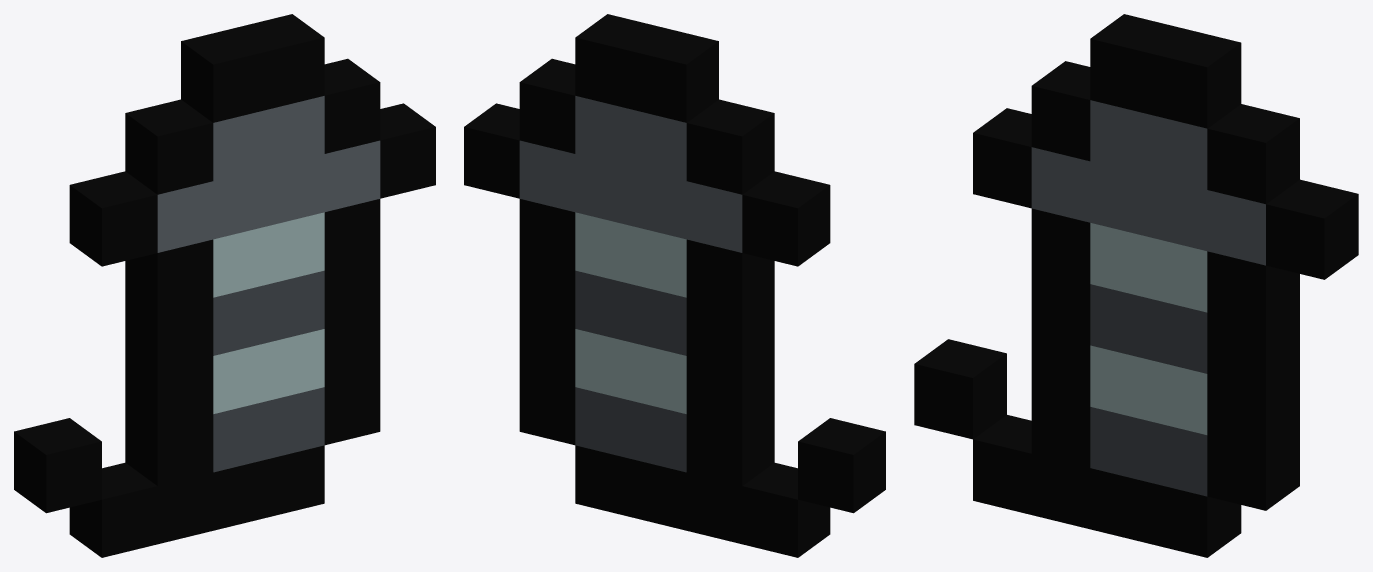
Rendered from Gray Firecracker.glb.
The picture shows the model from 3 angles, left to right: view 1: azimuth 30°, elevation 25°; view 2: azimuth 150°, elevation 25°; view 3: azimuth 330°, elevation 25°; orthographic projection. The views are drawn at different scales.
Parts seen in each view (by area): view 1: generated(Clone); view 2: generated(Clone); view 3: generated(Clone).
Part boxes in pixels (bbox=[...]): generated(Clone): bbox=[14, 14, 435, 557]; generated(Clone): bbox=[464, 14, 885, 557]; generated(Clone): bbox=[914, 14, 1358, 557].
Size of the model in its own units: 7 by 8 by 1.
Materials: 1 (1 with a texture image).
